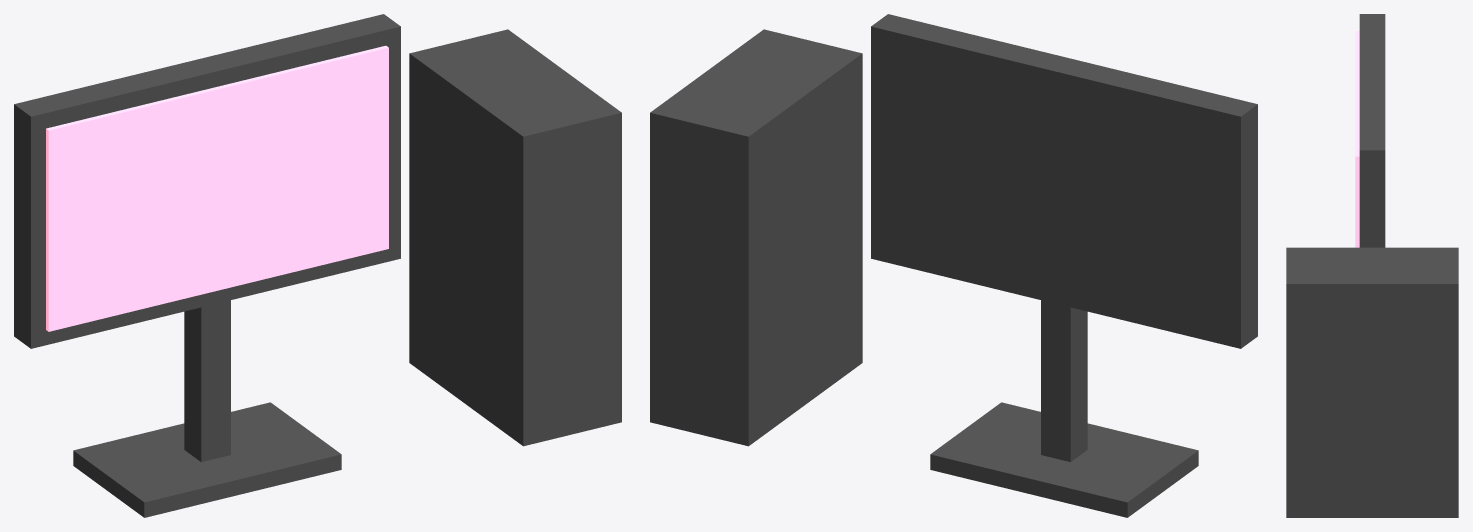
Rendered from computer4.glb.
The picture shows the model from 3 angles, left to right: view 1: azimuth 30°, elevation 25°; view 2: azimuth 150°, elevation 25°; view 3: azimuth 270°, elevation 25°; orthographic projection. The views are drawn at different scales.
Size of the model in its own units: 1.1 by 0.78 by 0.4.
